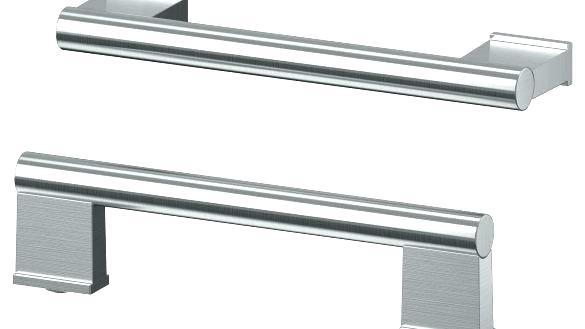handle: (8, 140, 524, 329), (41, 8, 579, 120)
